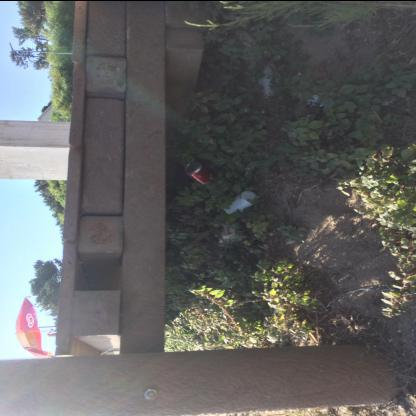karton: (224, 191, 260, 217)
metal: (185, 161, 213, 185)
